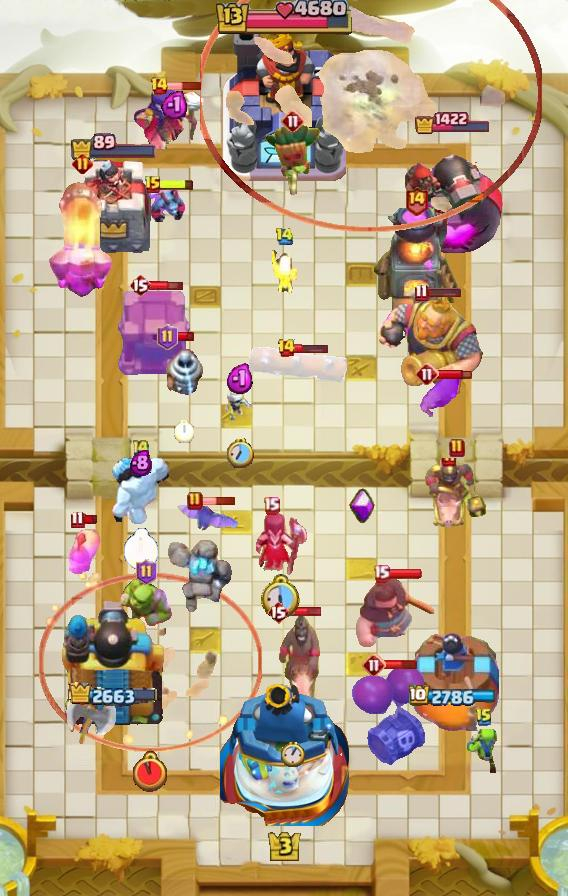axe: (132, 87, 216, 149)
barbarian: (174, 503, 238, 533)
bomb: (113, 290, 191, 378)
clock: (213, 0, 355, 38)
electro-spirit: (225, 363, 254, 395), (161, 89, 187, 119), (130, 448, 152, 476)
elixir: (262, 574, 303, 619), (123, 528, 159, 570), (133, 751, 167, 792), (226, 438, 253, 468), (281, 741, 305, 767), (174, 420, 194, 444)
emote: (159, 177, 195, 190), (149, 279, 184, 292), (426, 286, 462, 298), (387, 568, 423, 580), (295, 342, 330, 354), (437, 368, 472, 380), (286, 607, 321, 618), (384, 658, 418, 669), (167, 81, 202, 91), (201, 496, 236, 506), (177, 330, 196, 342), (82, 514, 99, 525)
executioner: (69, 522, 101, 574)
flying-machine: (116, 574, 176, 630)
freeze: (264, 610, 322, 722), (423, 458, 491, 532)
furnace: (48, 179, 116, 299)
giant: (414, 371, 466, 421)
giant-skeleton: (373, 296, 486, 400)
goblin-barrel: (263, 123, 323, 199)
goblin-drill: (161, 342, 207, 396)
guard: (39, 572, 262, 751)
heal-spirit: (268, 249, 300, 295), (224, 389, 256, 427)
hunter: (372, 208, 460, 318)
king-tower: (219, 678, 349, 826), (222, 31, 346, 181)
minion: (249, 347, 347, 383)
queen-tower: (407, 633, 499, 731), (73, 160, 154, 257)
rage: (108, 452, 174, 526)
rascal-boy: (253, 511, 309, 581)
royal-delivery: (144, 182, 186, 222)
royal-ghost: (200, 0, 542, 232)
royal-giant: (65, 694, 117, 746)
royal-hog: (352, 576, 438, 648)
royal-recruit-evolution: (352, 664, 430, 770)
selected: (70, 133, 158, 161), (69, 683, 159, 710), (410, 685, 499, 708), (414, 111, 492, 135)
skeleton-king-skill: (349, 488, 375, 524)
text: (403, 184, 428, 215), (281, 109, 305, 133), (415, 362, 439, 386), (362, 653, 386, 677), (158, 324, 179, 350), (135, 559, 156, 585), (129, 273, 151, 297), (267, 600, 289, 624), (71, 154, 92, 175), (131, 437, 151, 459), (150, 76, 170, 96), (276, 338, 296, 358), (144, 175, 162, 195), (274, 227, 294, 245), (475, 707, 493, 727), (449, 438, 465, 458), (187, 491, 203, 511), (263, 497, 280, 515), (373, 565, 390, 583), (415, 283, 430, 301), (71, 511, 85, 529)
tower-bar: (58, 595, 170, 731), (403, 138, 503, 256)
valkyrie-evolution: (164, 537, 238, 619)
zap: (465, 729, 503, 773)
